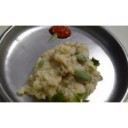venpongal: (33, 47, 99, 100)
